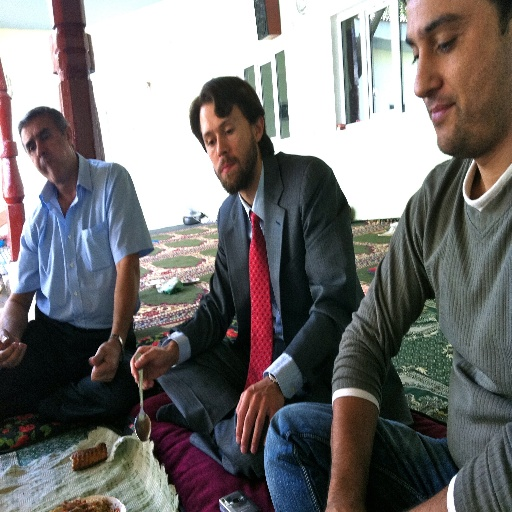hand: (235, 376, 285, 454), (122, 343, 170, 401), (90, 341, 121, 381), (0, 328, 26, 369)
